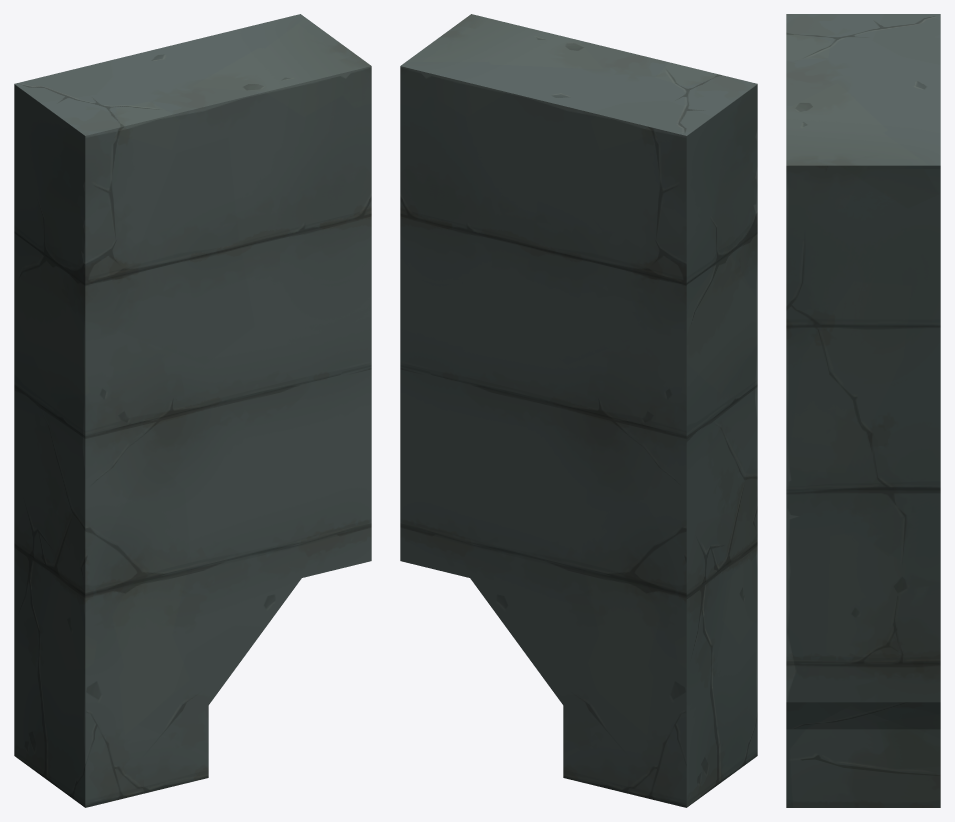
Rendered from Dg_01_wall_007.FBX.
3 renders of one model, left to right at view 1: azimuth 30°, elevation 25°; view 2: azimuth 150°, elevation 25°; view 3: azimuth 270°, elevation 25°, orthographic. The views are drawn at different scales.
Visible parts, largest first — view 1: Dg_01_wall_007; view 2: Dg_01_wall_007; view 3: Dg_01_wall_007.
Boxes of the visible parts, box(x1,y1,x2,y2) form: Dg_01_wall_007: box(14, 14, 371, 807); Dg_01_wall_007: box(400, 14, 757, 807); Dg_01_wall_007: box(786, 14, 940, 807).
Size of the model in its own units: 2.23 by 5 by 0.96.
